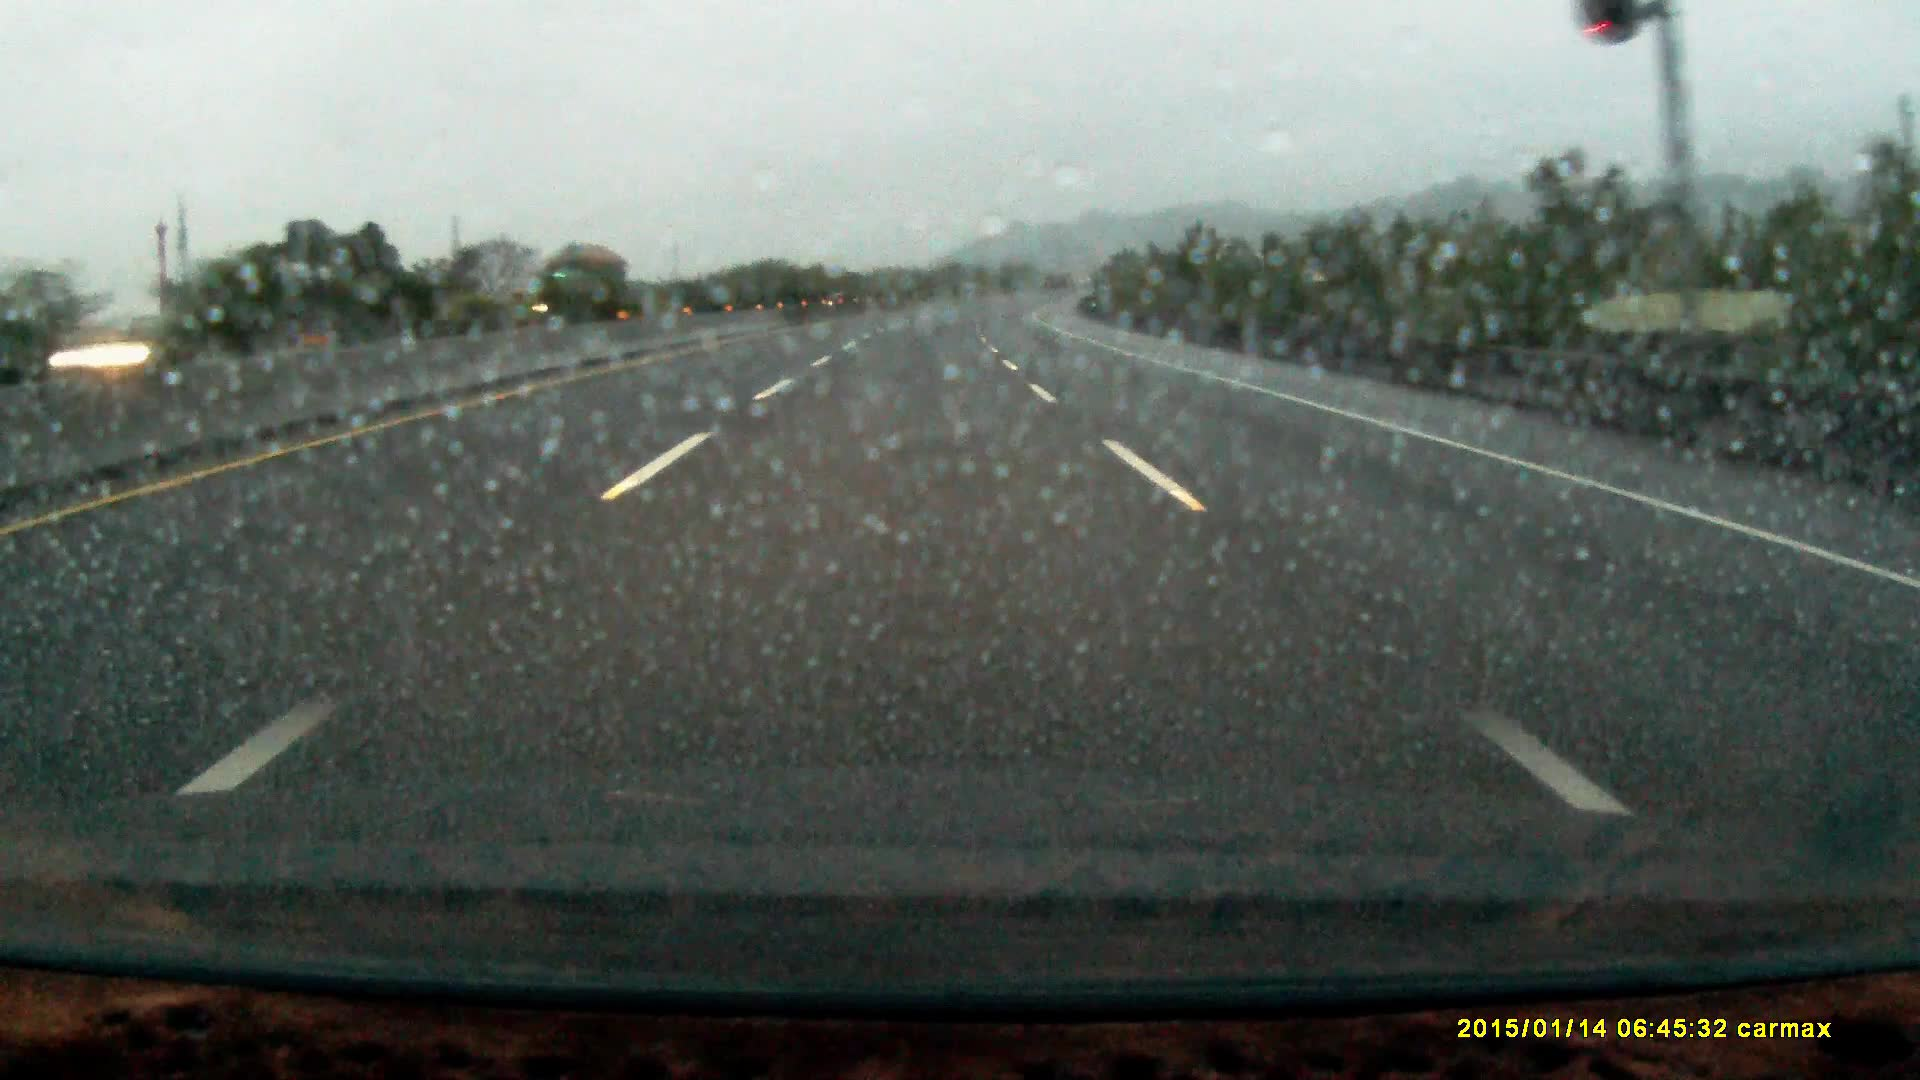vehicle: (531, 240, 632, 320)
